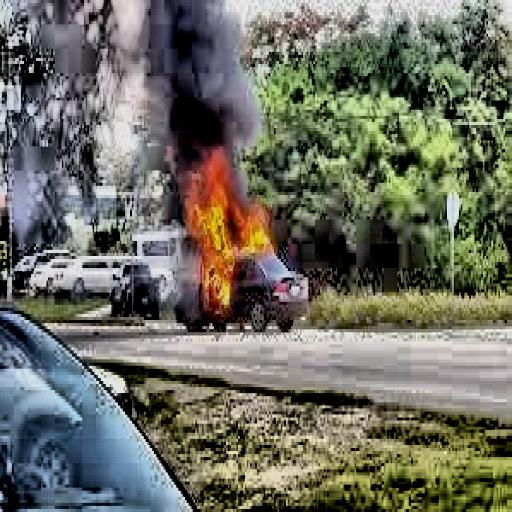fire: (180, 152, 276, 308)
